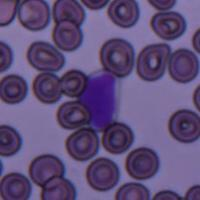L: (78, 68, 122, 130)
